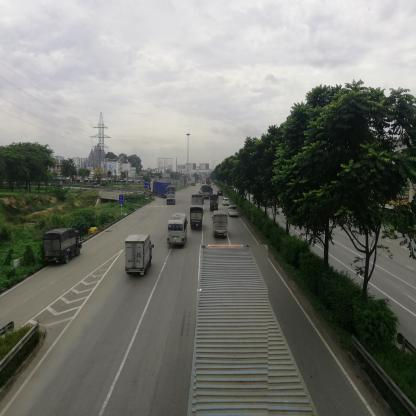bus: (168, 212, 188, 250)
car: (230, 207, 239, 217), (223, 199, 230, 207), (218, 192, 224, 197)
container: (197, 246, 269, 416), (151, 182, 170, 198)
truck: (43, 228, 82, 269), (126, 236, 156, 276), (214, 211, 229, 237), (191, 208, 207, 228), (168, 186, 178, 206), (211, 195, 219, 212), (192, 196, 205, 205), (204, 185, 213, 197)
